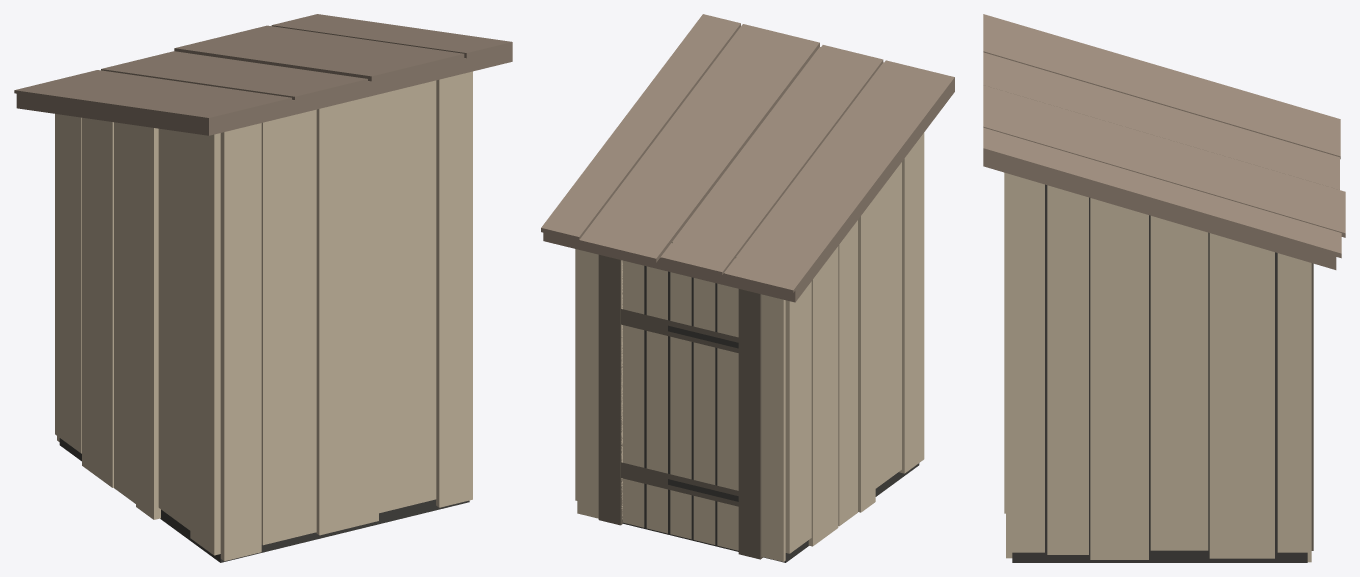
File: recon_1835_south_a3_043__inferred_1835.glb
The picture shows the model from 3 angles, left to right: view 1: azimuth 30°, elevation 25°; view 2: azimuth 150°, elevation 25°; view 3: azimuth 270°, elevation 25°; orthographic projection. The views are drawn at different scales.
Parts seen in each view (by area): view 1: recon_1835_south_a3_043__inferred_1835; view 2: recon_1835_south_a3_043__inferred_1835; view 3: recon_1835_south_a3_043__inferred_1835.
Part boxes in pixels (box(x1,y1,x2,y2)): recon_1835_south_a3_043__inferred_1835: box(14, 14, 512, 562); recon_1835_south_a3_043__inferred_1835: box(541, 14, 954, 562); recon_1835_south_a3_043__inferred_1835: box(983, 14, 1345, 562).
Bounding box in the file's own units: 1.84 × 2.69 × 2.07.
